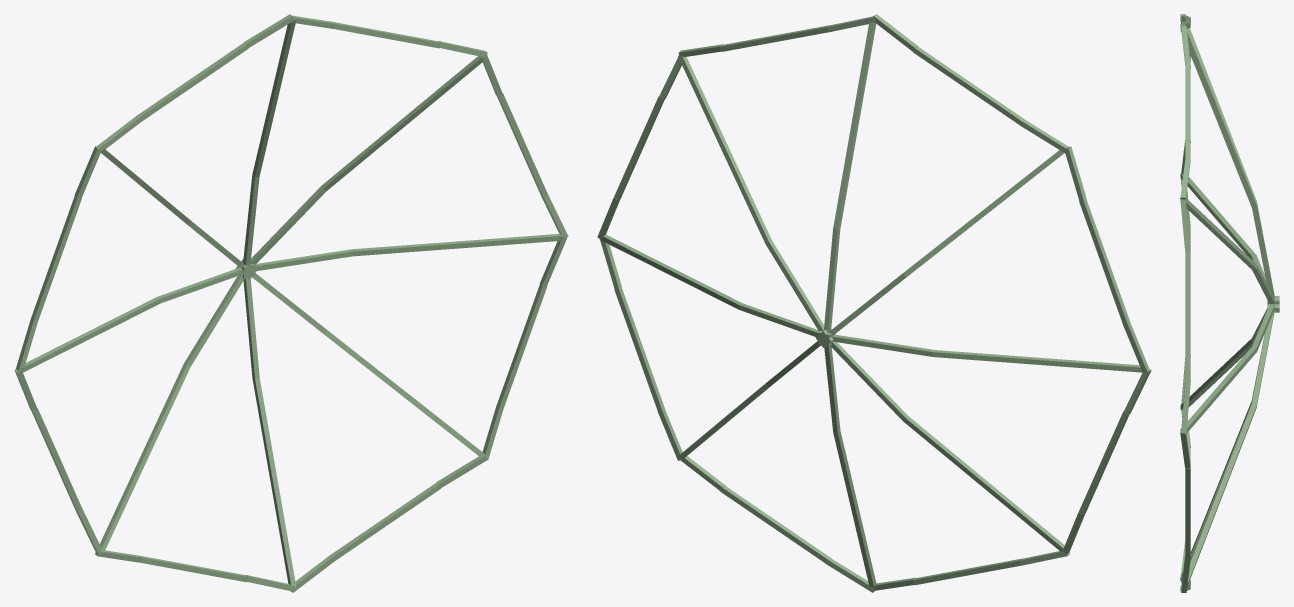
File: umbrella.dae
The picture shows the model from 3 angles, left to right: view 1: azimuth 30°, elevation 25°; view 2: azimuth 150°, elevation 25°; view 3: azimuth 270°, elevation 25°; orthographic projection. The views are drawn at different scales.
Visible parts, largest first — view 1: Cube.007, Cube.018, Cube.010, Cube.001, Cube.019, Cube.004, Cube.022, Cube.031, Cube.028, Cube.037, Cube.034, Cube.009 (+8 smaller); view 2: Cube.010, Cube.007, Cube.019, Cube.004, Cube.018, Cube.001, Cube.024, Cube.031, Cube.028, Cube.034, Cube.037, Cube.011 (+7 smaller); view 3: Cube.022, Cube.019, Cube.001, Cube.004, Cube.017, Cube.010, Cube.007, Cube.024, Cube.040, Cube.021, Cube.023, Cube.031 (+9 smaller).
Boxes of the visible parts, left/top/right/bottom form: Cube.007: left=99, top=363, right=190, bottom=553; Cube.018: left=252, top=378, right=296, bottom=588; Cube.010: left=321, top=56, right=487, bottom=191; Cube.001: left=352, top=234, right=565, bottom=256; Cube.019: left=252, top=19, right=296, bottom=177; Cube.004: left=21, top=297, right=160, bottom=372; Cube.022: left=324, top=330, right=487, bottom=457; Cube.031: left=496, top=284, right=547, bottom=408; Cube.028: left=31, top=196, right=81, bottom=320; Cube.037: left=330, top=482, right=440, bottom=561; Cube.034: left=137, top=43, right=248, bottom=121; Cube.009: left=184, top=274, right=244, bottom=366; Cube.010: left=678, top=55, right=771, bottom=242; Cube.007: left=903, top=416, right=1064, bottom=551; Cube.019: left=833, top=22, right=876, bottom=229; Cube.004: left=932, top=350, right=1142, bottom=372; Cube.018: left=833, top=430, right=876, bottom=587; Cube.001: left=599, top=234, right=741, bottom=308; Cube.024: left=903, top=150, right=1064, bottom=276; Cube.031: left=614, top=287, right=664, bottom=411; Cube.028: left=1079, top=199, right=1129, bottom=323; Cube.034: left=913, top=46, right=1023, bottom=124; Cube.037: left=720, top=486, right=831, bottom=563; Cube.011: left=765, top=240, right=824, bottom=331; Cube.022: left=1180, top=403, right=1256, bottom=588; Cube.019: left=1180, top=29, right=1256, bottom=208; Cube.001: left=1180, top=346, right=1256, bottom=434; Cube.004: left=1180, top=173, right=1256, bottom=258; Cube.017: left=1185, top=251, right=1190, bottom=379; Cube.010: left=1183, top=198, right=1256, bottom=269; Cube.007: left=1180, top=339, right=1253, bottom=409; Cube.024: left=1180, top=18, right=1256, bottom=201; Cube.040: left=1185, top=64, right=1190, bottom=158; Cube.021: left=1252, top=204, right=1274, bottom=298; Cube.023: left=1252, top=310, right=1274, bottom=404; Cube.031: left=1185, top=468, right=1190, bottom=556.
Bounding box in the file's own units: 3.53 × 0.5707 × 3.53.
